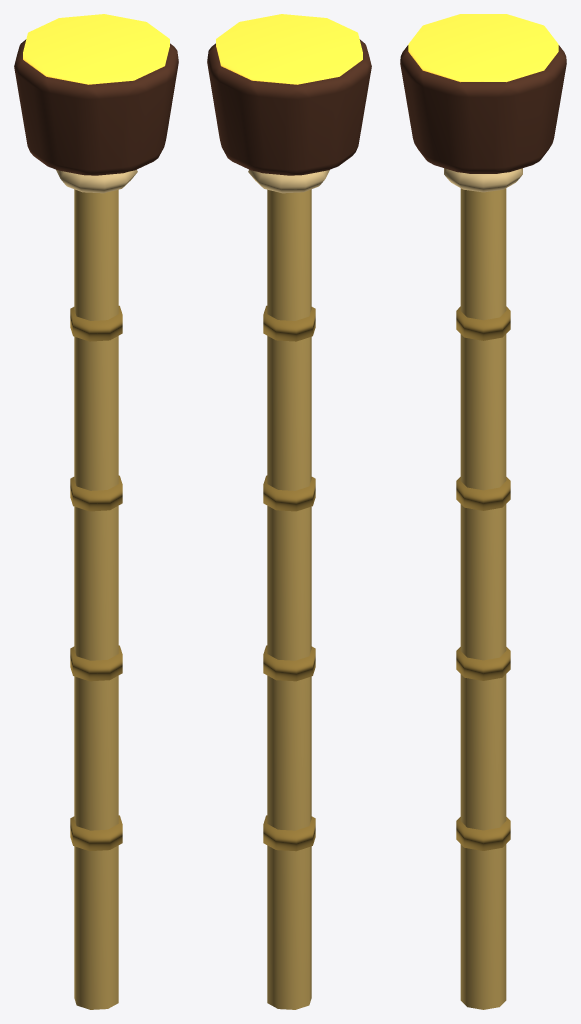
File: lava_torch.glb
The picture shows the model from 3 angles, left to right: view 1: azimuth 30°, elevation 25°; view 2: azimuth 150°, elevation 25°; view 3: azimuth 270°, elevation 25°; orthographic projection.
Parts seen in each view (by area): view 1: Torch; view 2: Torch; view 3: Torch.
Part boxes in pixels (bbox=[...]): Torch: bbox=[14, 14, 178, 1009]; Torch: bbox=[207, 14, 371, 1009]; Torch: bbox=[400, 14, 566, 1009].
Size of the model in its own units: 0.3908 by 2.53 by 0.3998.
